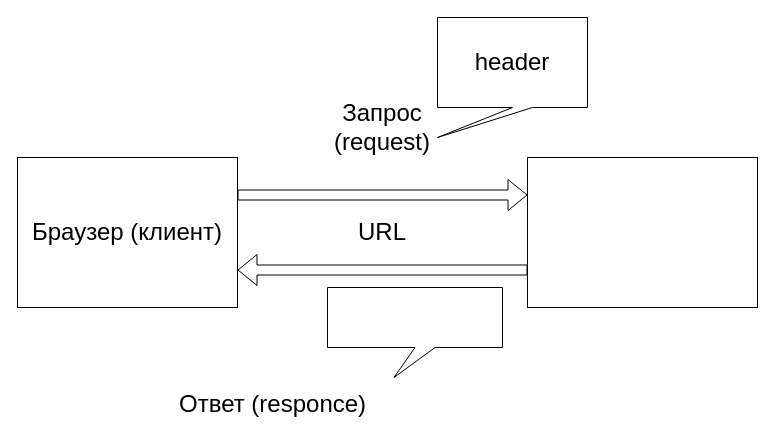
Some shapes in this 775 by 437 pixel diagram are drawn without their labels. The centre of each missing label's shape, as x and y in pixels:
"header body" goes at (414,332).
"Сервер" goes at (642,232).
